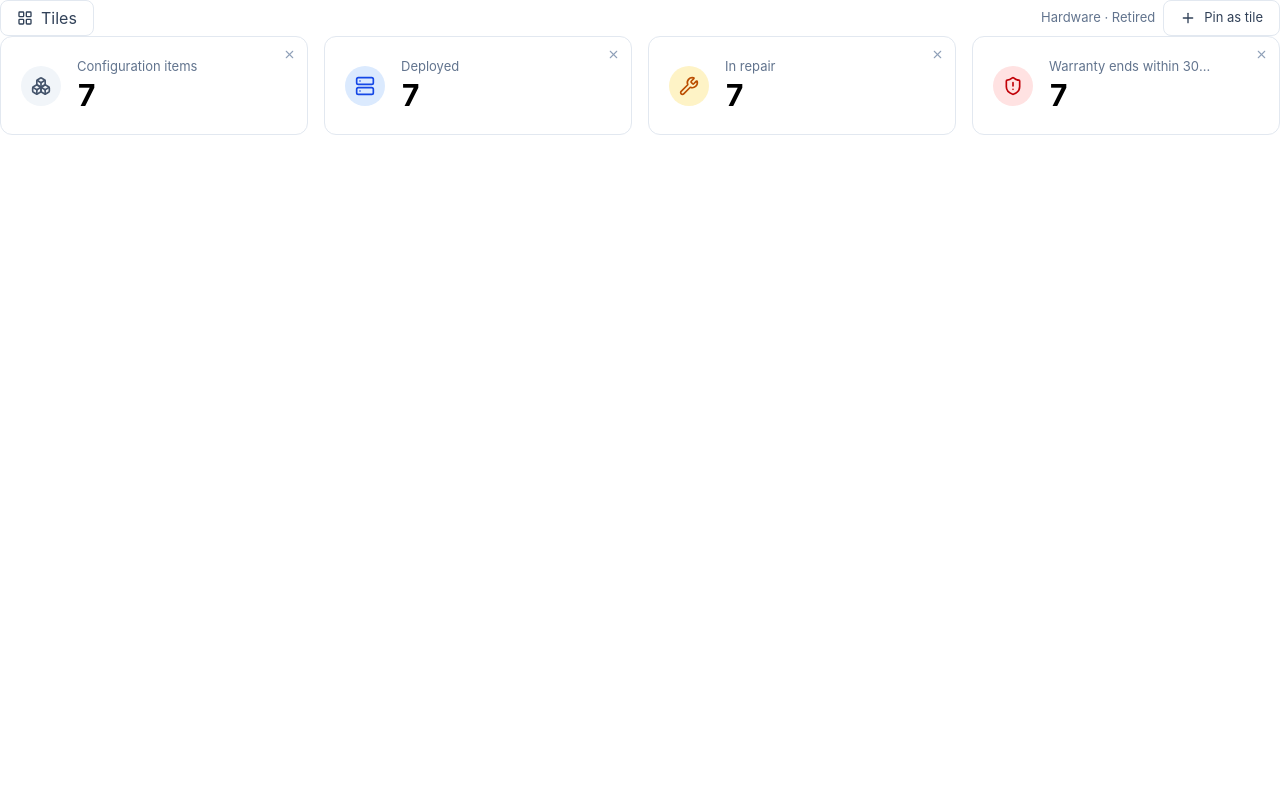
Scenario: pinning a tile › saves the current filter under a name and counts it
Expected: the text "Configuration items" is shown, x1=77 y1=58 x2=197 y2=74
Click the button "Pin as tile" at (1222, 18), box x1=1163 y1=0 x2=1279 y2=36
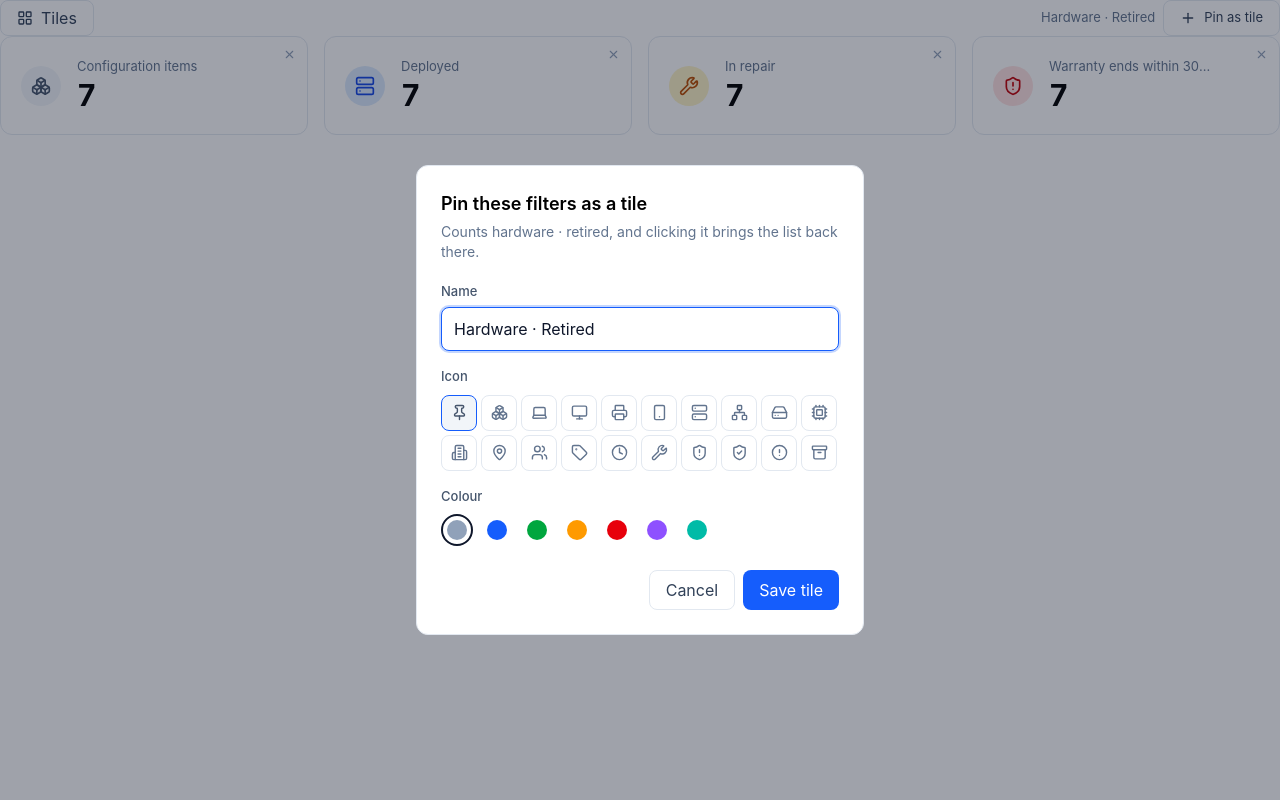
Replace the text in the field labelled "Name" with "Retired hardware" at (640, 329), box x1=441 y1=307 x2=839 y2=351
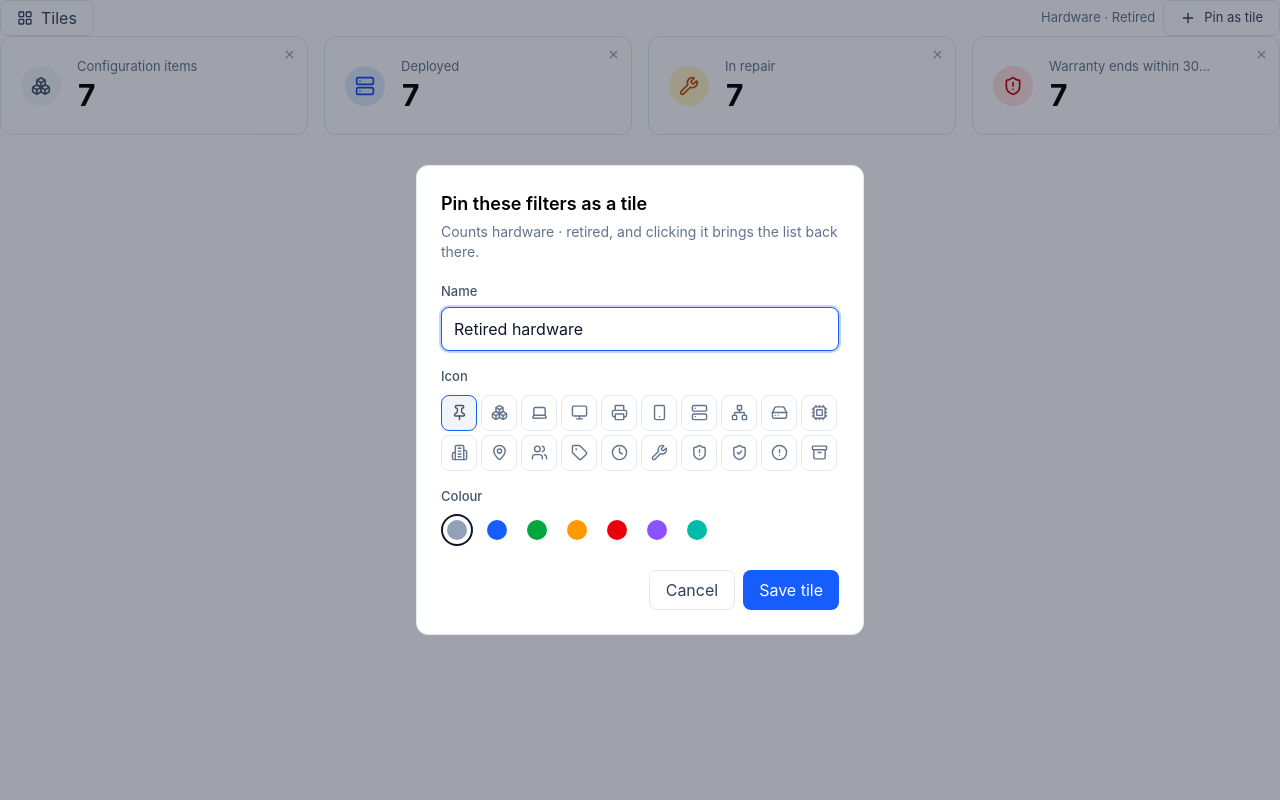
Click the button "Save tile" at (791, 590), box x1=743 y1=570 x2=839 y2=610
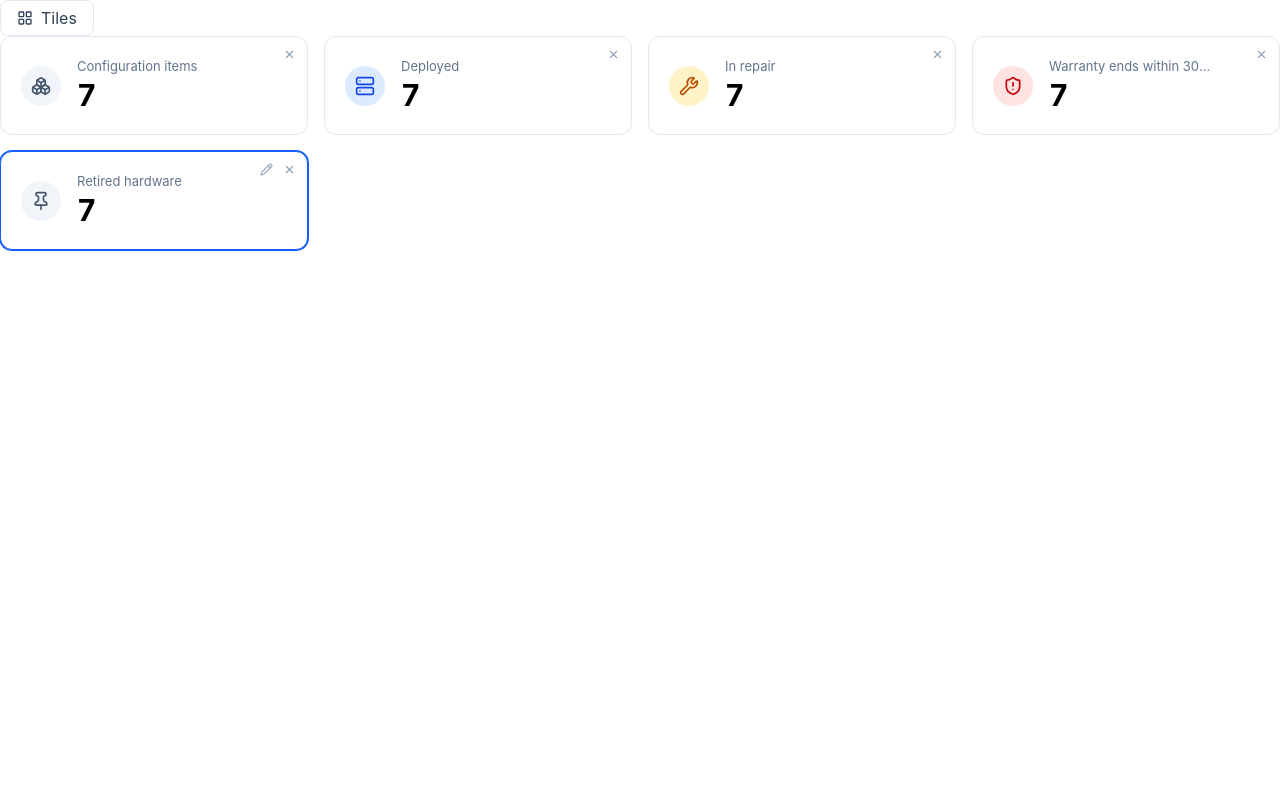
Expected: the 5th text "7" is shown, x1=77 y1=192 x2=96 y2=228
